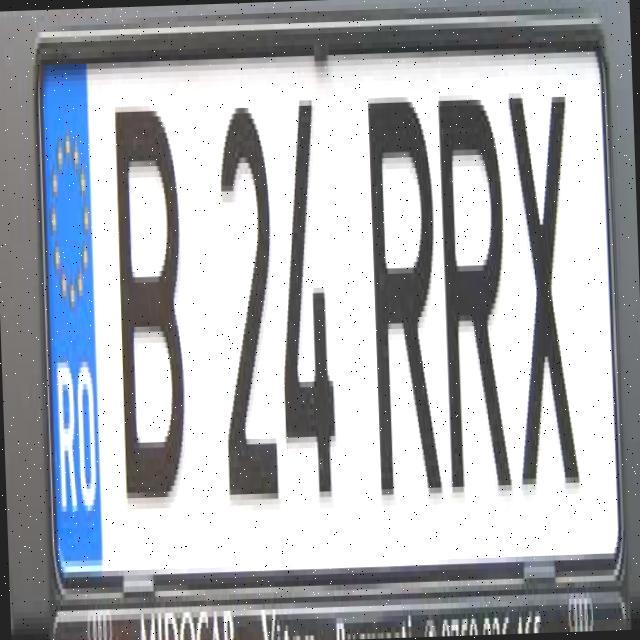EU: (31, 22, 626, 640)
Romanie: (36, 60, 104, 578)
